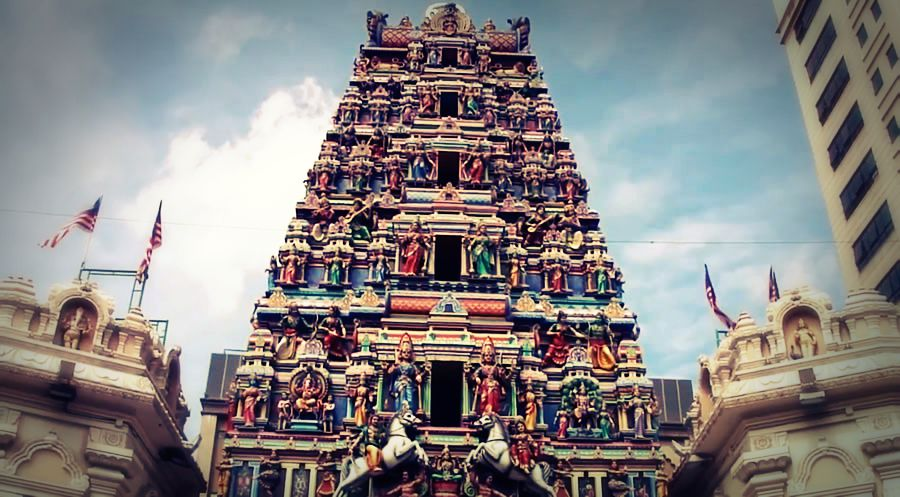Hindu Temple: (257, 9, 644, 439)
